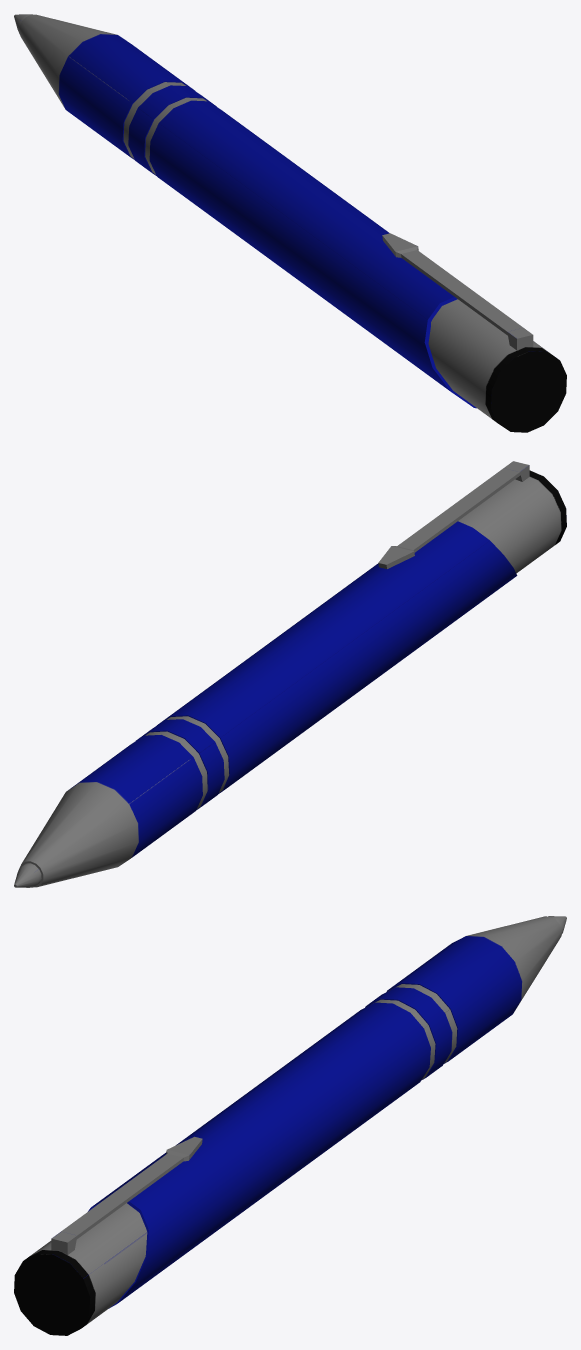
Rendered from Pen.fbx.
The picture shows the model from 3 angles, top to bottom: view 1: azimuth 30°, elevation 25°; view 2: azimuth 150°, elevation 25°; view 3: azimuth 330°, elevation 25°; orthographic projection.
Parts seen in each view (by area): view 1: Cube.032; view 2: Cube.032; view 3: Cube.032.
Boxes of the visible parts, x1=… form: Cube.032: x1=14, y1=14, x2=566, y2=432; Cube.032: x1=14, y1=461, x2=566, y2=887; Cube.032: x1=14, y1=916, x2=566, y2=1335.
Size of the model in its own units: 0.0546 by 0.0612 by 0.6074.
